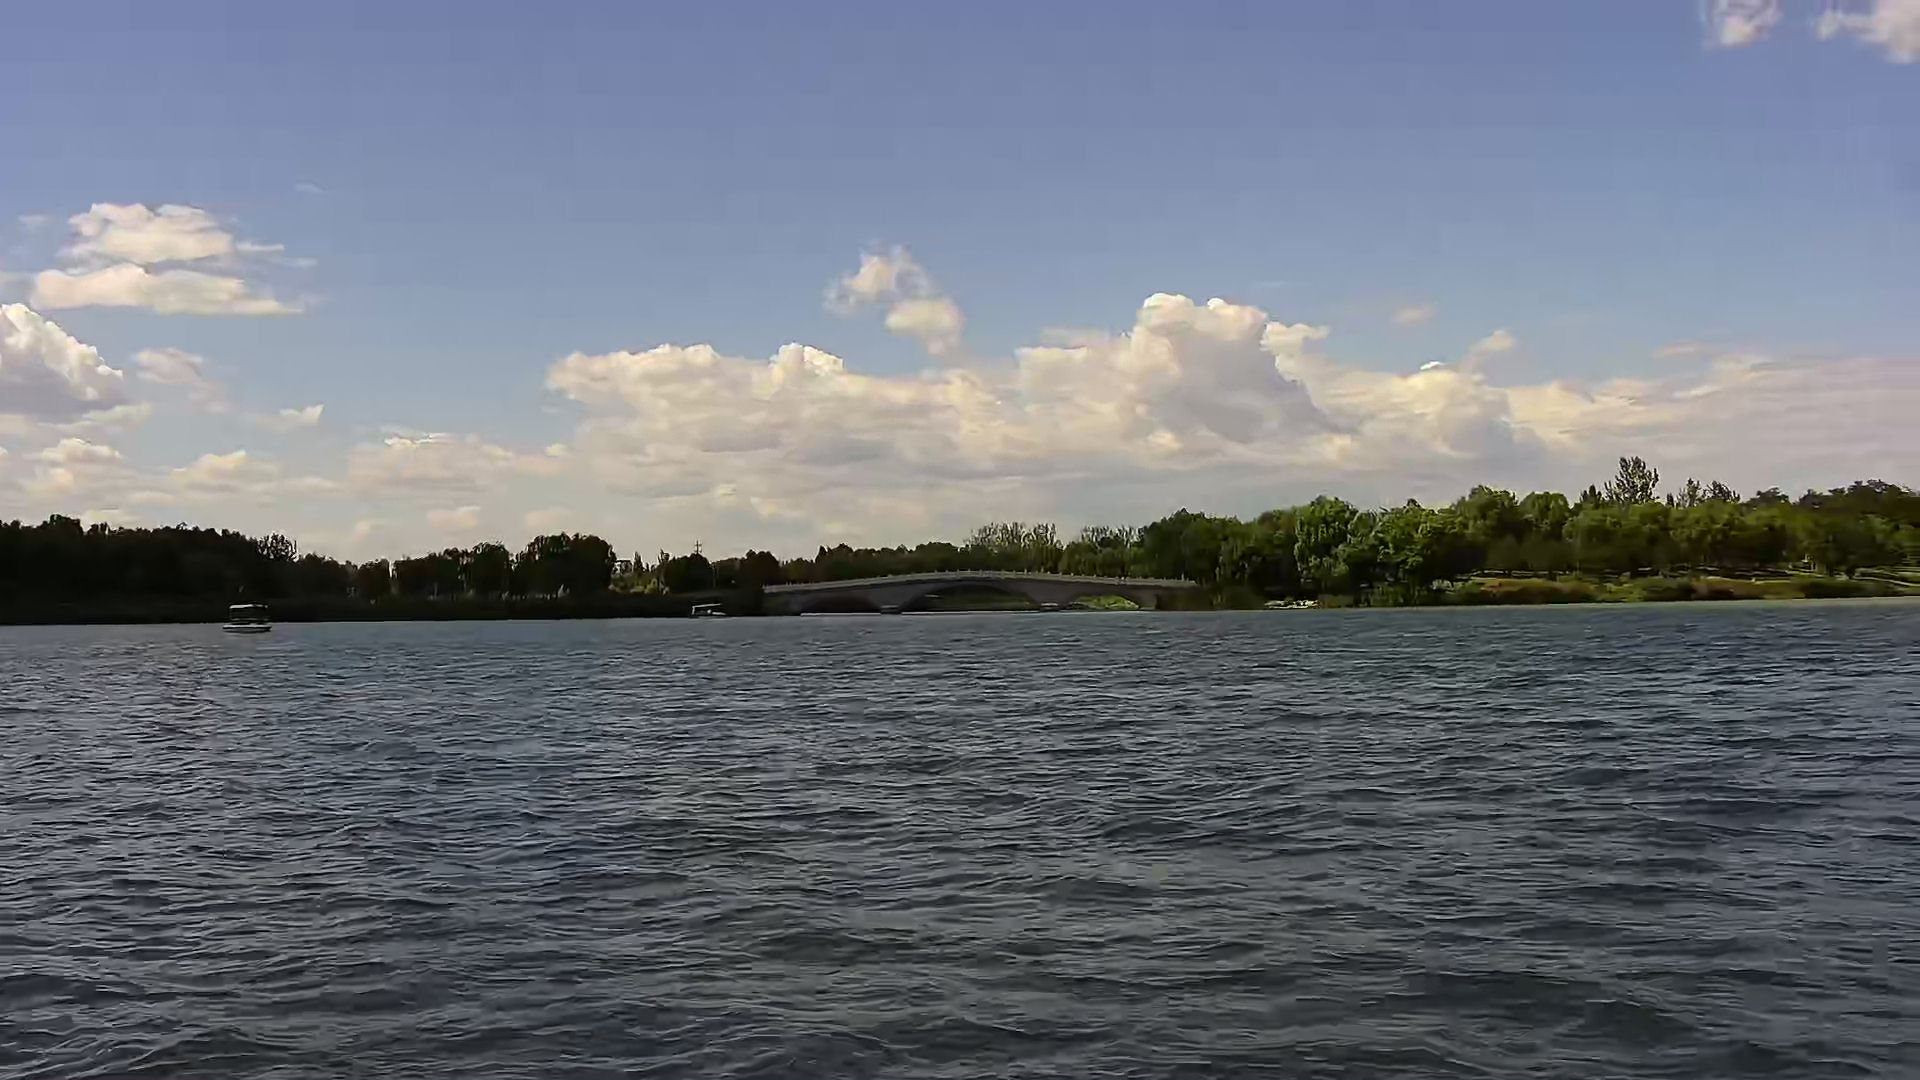boat: (215, 601, 274, 636)
bridge: (760, 567, 1200, 620)
